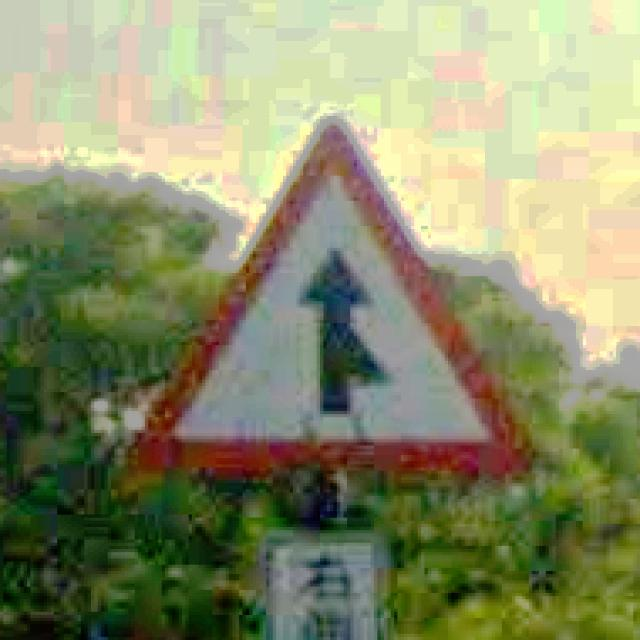rightmerge: (126, 110, 538, 471)
